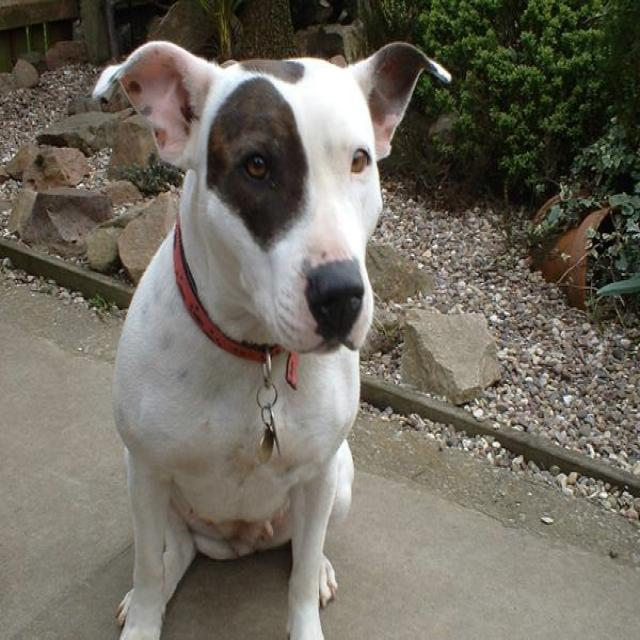staffordshire_bullterrier: (91, 41, 452, 637)
